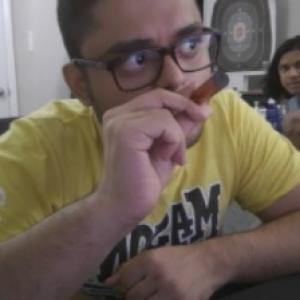Golden-E-Ciggirate: (189, 68, 234, 109)
